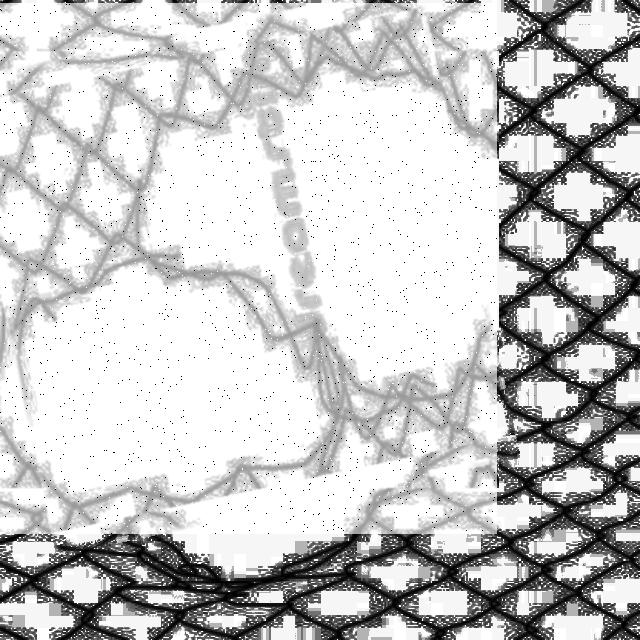anomaly-fence: (0, 3, 497, 534)
